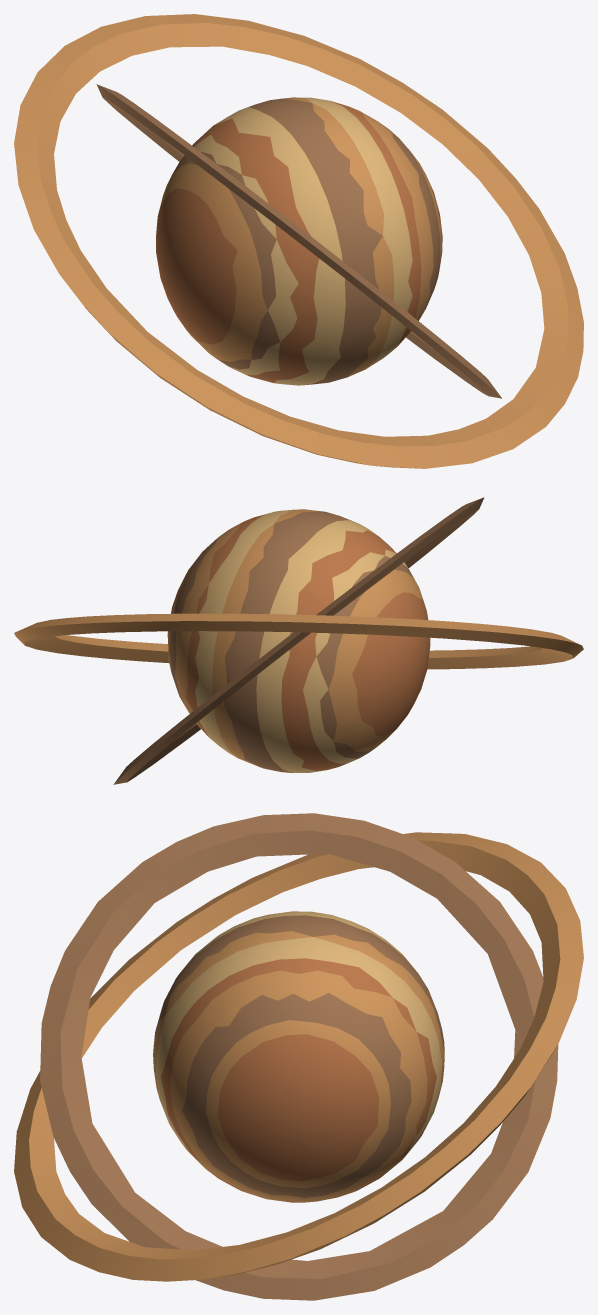
The model's file is Planet_7.gltf.
3 renders of one model, top to bottom at view 1: azimuth 30°, elevation 25°; view 2: azimuth 150°, elevation 25°; view 3: azimuth 270°, elevation 25°, orthographic. The views are drawn at different scales.
Visible parts, largest first — view 1: Planet_7; view 2: Planet_7; view 3: Planet_7.
Boxes of the visible parts, box(x1,y1,x2,y2) form: Planet_7: box(14, 14, 583, 468); Planet_7: box(14, 497, 583, 784); Planet_7: box(14, 813, 583, 1300).
Size of the model in its own units: 4.81 by 2.87 by 4.46.
1 material, 1 textured.
